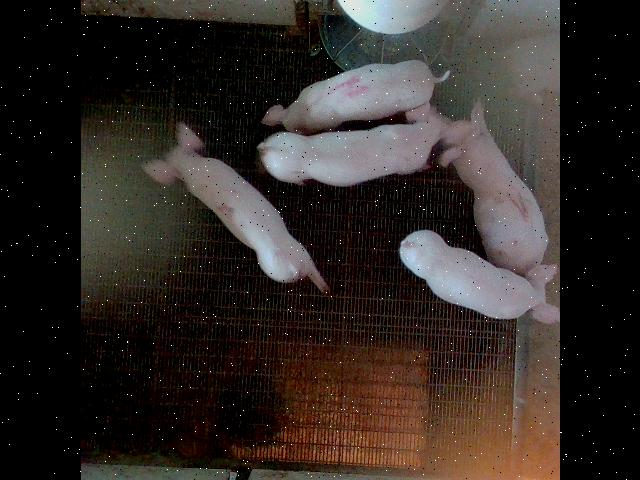pig-1: (439, 102, 547, 275)
pig-4: (261, 60, 448, 135)
